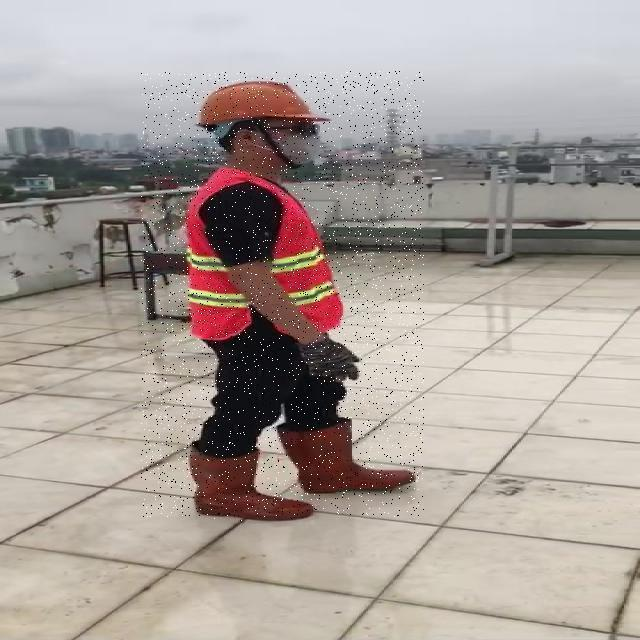gloves: (303, 338, 360, 386)
goggles: (254, 120, 319, 138)
helmet: (195, 78, 318, 126)
safety_vest: (183, 168, 341, 339)
